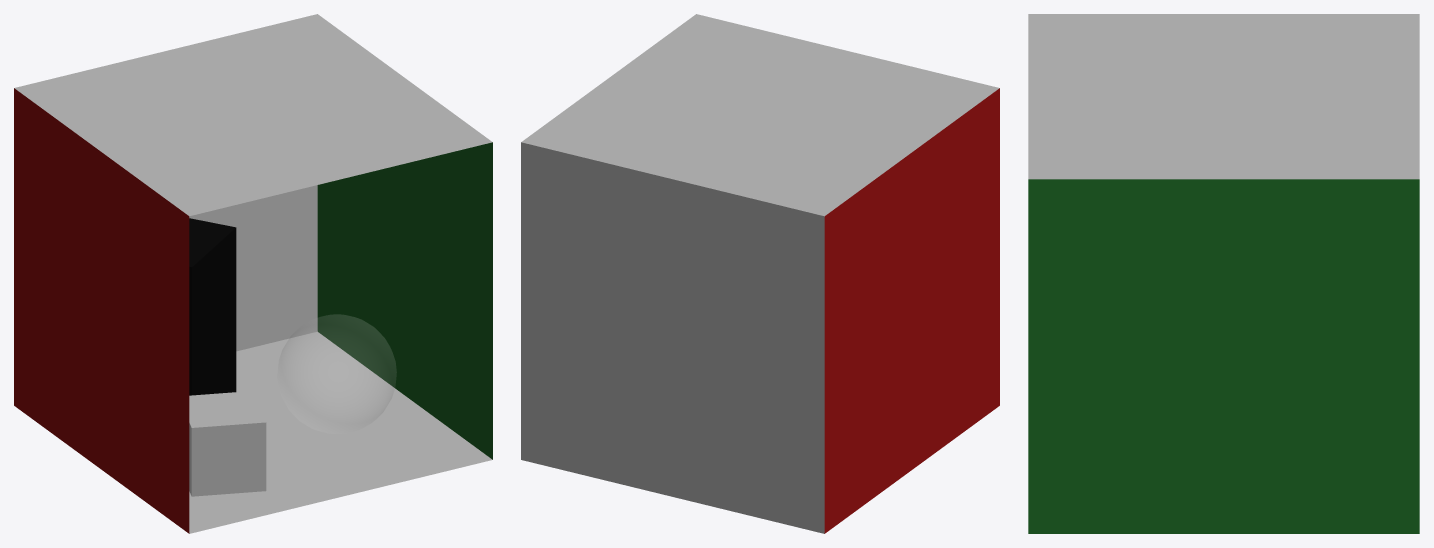
Rendered from cornell_box.obj.
The picture shows the model from 3 angles, left to right: view 1: azimuth 30°, elevation 25°; view 2: azimuth 150°, elevation 25°; view 3: azimuth 270°, elevation 25°; orthographic projection. The views are drawn at different scales.
Bounding box in the file's own units: 555 × 555 × 555.
